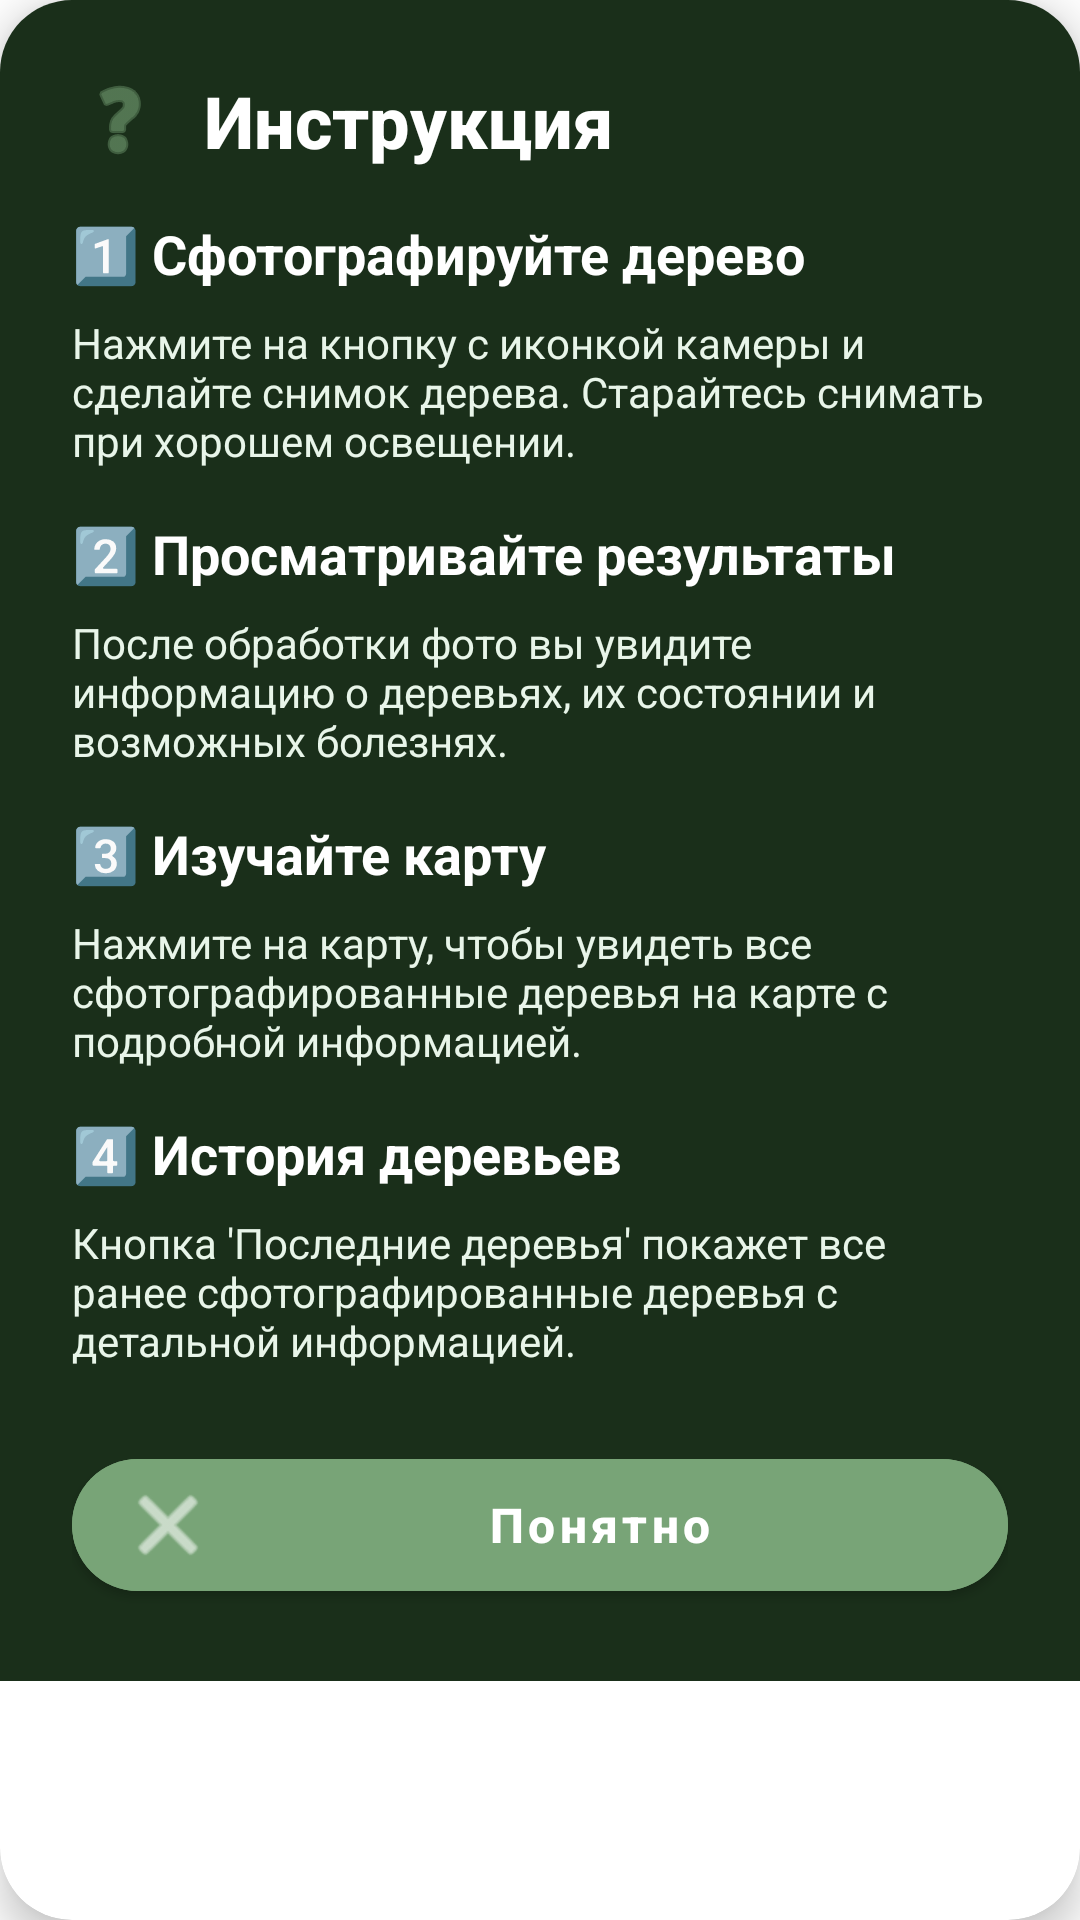

Where to tap for icons on this 1080px×1920px app screen, as (x=x, y=y):
help: (x=120, y=120)
